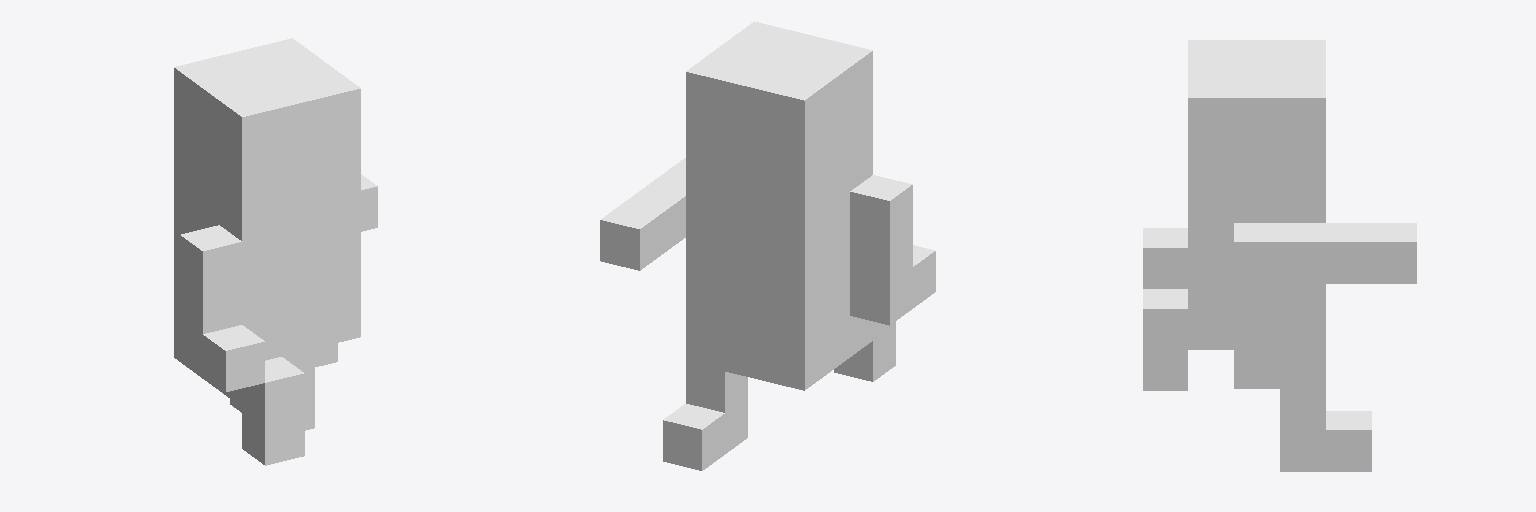
Rendered from Slonik.obj.
3 views of the same model, side by side, from view 1: azimuth 30°, elevation 25°; view 2: azimuth 150°, elevation 25°; view 3: azimuth 270°, elevation 25° (orthographic).
Parts seen in each view (by area): view 1: GnomeBase; view 2: GnomeBase; view 3: GnomeBase.
Boxes of the visible parts, <box> form: GnomeBase: <box>174,38,377,465</box>; GnomeBase: <box>600,21,935,470</box>; GnomeBase: <box>1143,40,1416,471</box>.
Bounding box in the file's own units: 0.5 × 0.9 × 0.6.